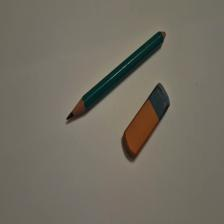eraser: (124, 83, 171, 159)
pencil: (67, 32, 167, 121)
